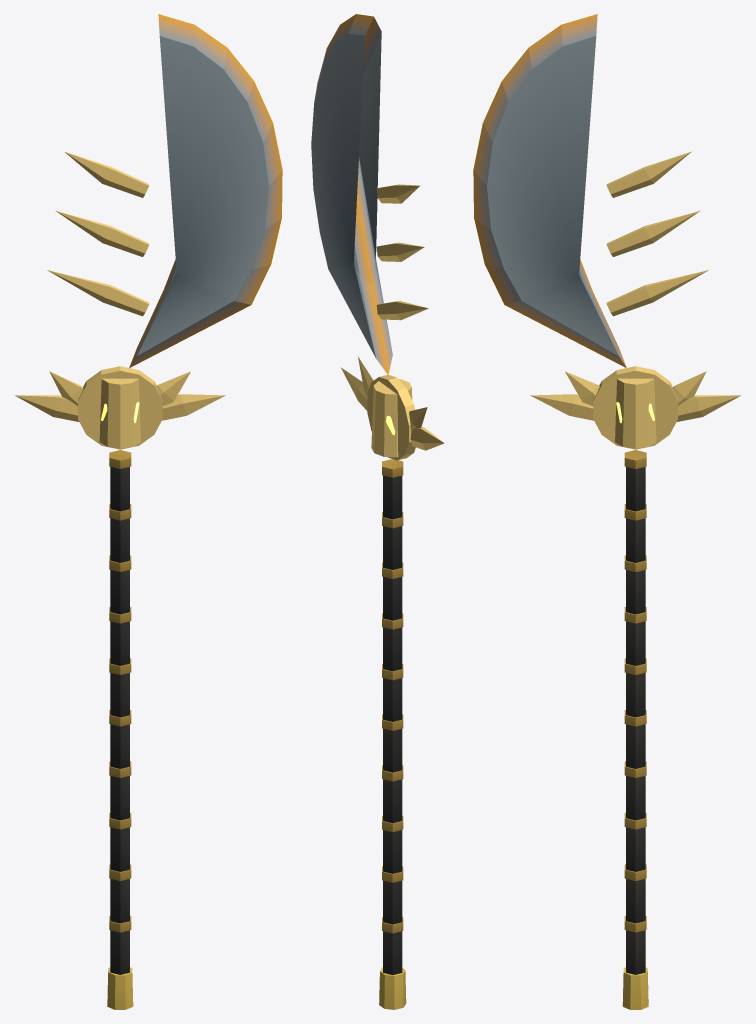
File: polearm_legendary.glb
3 views of the same model, side by side, from view 1: azimuth 90°, elevation 25°; view 2: azimuth 210°, elevation 25°; view 3: azimuth 270°, elevation 25° (orthographic).
Visible parts, largest first — view 1: polearm_legendary; view 2: polearm_legendary; view 3: polearm_legendary.
Part boxes in pixels (bbox=[...]): polearm_legendary: bbox=[15, 14, 282, 1009]; polearm_legendary: bbox=[311, 14, 444, 1009]; polearm_legendary: bbox=[473, 14, 740, 1009].
Bounding box in the file's own units: 10 × 251 × 61.59.
